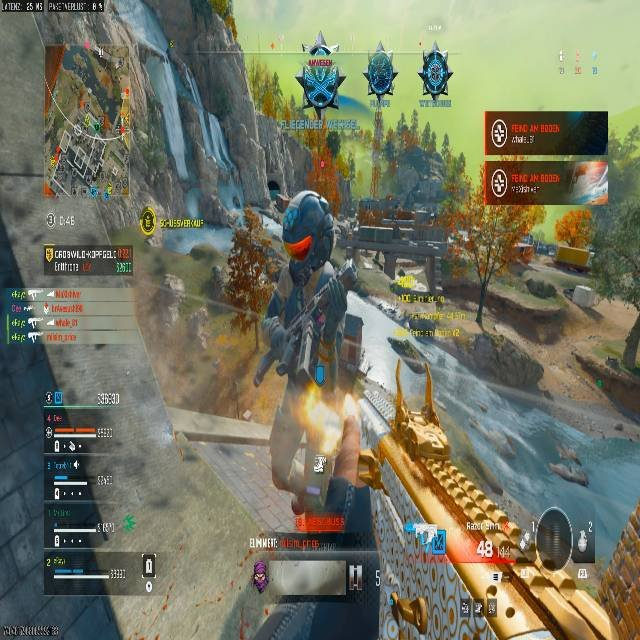head: (281, 190, 333, 259), (264, 183, 287, 212), (309, 38, 331, 61)
player: (258, 189, 375, 524), (268, 184, 356, 382), (298, 38, 342, 118), (363, 49, 397, 106)
